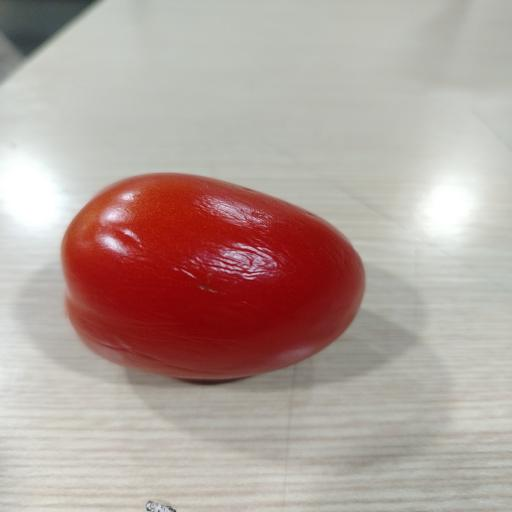spoiled: (62, 173, 364, 380)
